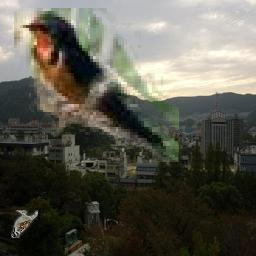Sparrow: (12, 210, 39, 238)
Swallow: (15, 8, 180, 162)
